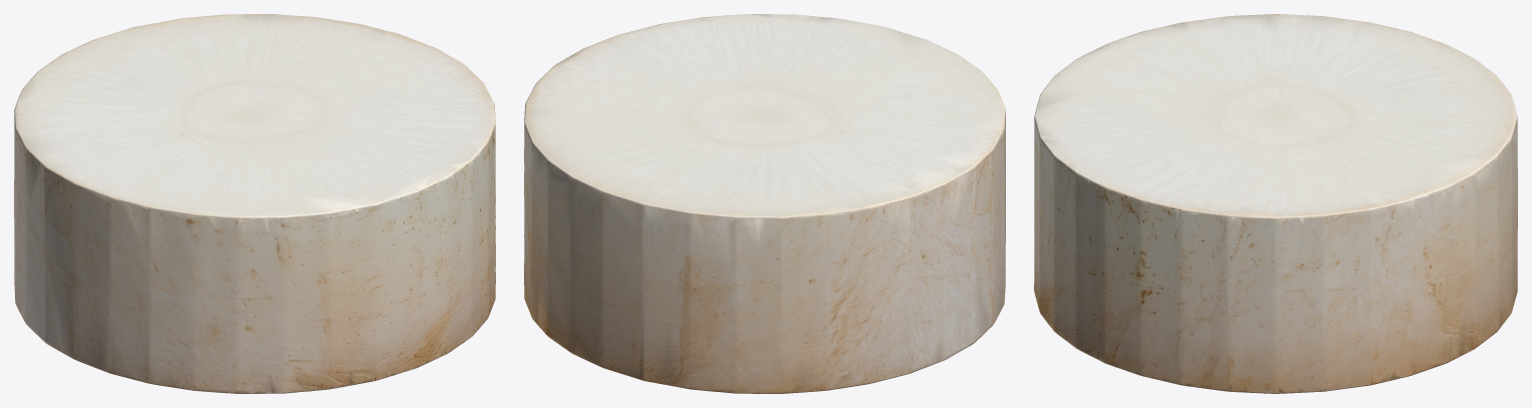
File: oden-daikon.glb
3 renders of one model, left to right at view 1: azimuth 30°, elevation 25°; view 2: azimuth 150°, elevation 25°; view 3: azimuth 270°, elevation 25°, orthographic.
Visible parts, largest first — view 1: mesh; view 2: mesh; view 3: mesh.
Boxes of the visible parts, bbox=[...] form: mesh: bbox=[14, 14, 495, 393]; mesh: bbox=[524, 14, 1005, 393]; mesh: bbox=[1034, 14, 1517, 393].
Size of the model in its own units: 2 by 0.8091 by 2.
1 material, 1 textured.
